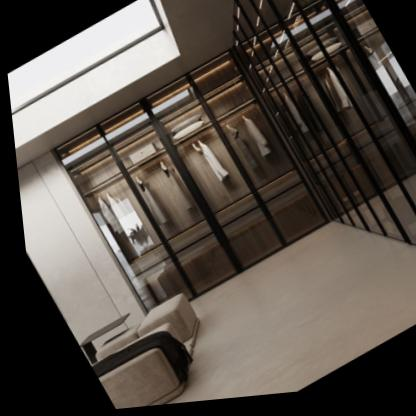Transparent Closet: (52, 56, 321, 315), (229, 0, 416, 257)
